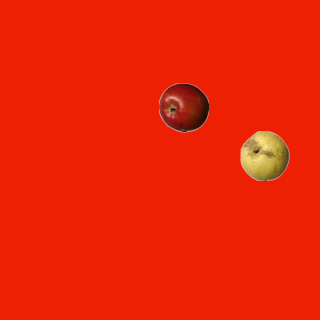Apple Braeburn: (158, 82, 208, 132)
Apple Golden 1: (239, 130, 289, 180)
